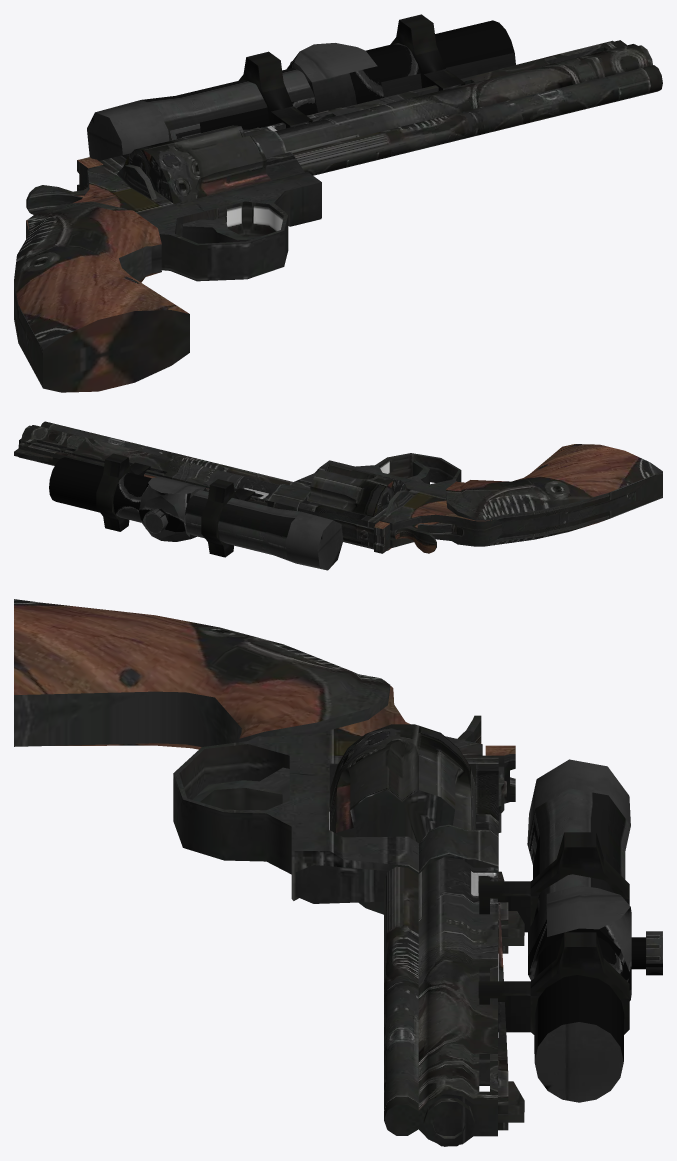
The model's file is t5_weapon_coltpython_world.glb.
The picture shows the model from 3 angles, top to bottom: view 1: azimuth 30°, elevation 25°; view 2: azimuth 150°, elevation 25°; view 3: azimuth 270°, elevation 25°; orthographic projection. The views are drawn at different scales.
Visible parts, largest first — view 1: t5_weapon_coltpython_world; view 2: t5_weapon_coltpython_world; view 3: t5_weapon_coltpython_world.
Boxes of the visible parts, x1,y1,x2,y2 form: t5_weapon_coltpython_world: [14, 14, 662, 392]; t5_weapon_coltpython_world: [14, 421, 662, 570]; t5_weapon_coltpython_world: [14, 599, 662, 1146].
Size of the model in its own units: 0.4292 by 0.0538 by 0.2358.
Materials: 3 (3 with a texture image).
